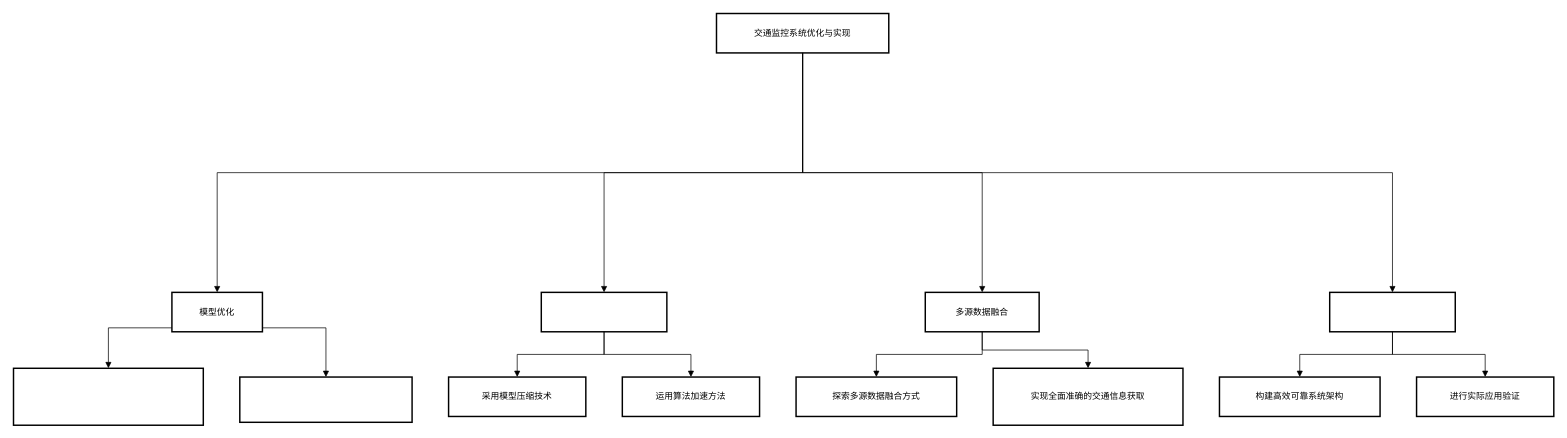
Some shapes in this 1567 by 438 pixel diagram are drawn without their labels. Each missing label, with the centre of its shape:
"优化模型结构提高鲁棒性" goes at point 325,399.
"实时性与高效性" goes at point 603,311.
"研究复杂交通场景下模型性能提升方法" goes at point 108,396.
"系统集成与应用" goes at point 1392,311.
